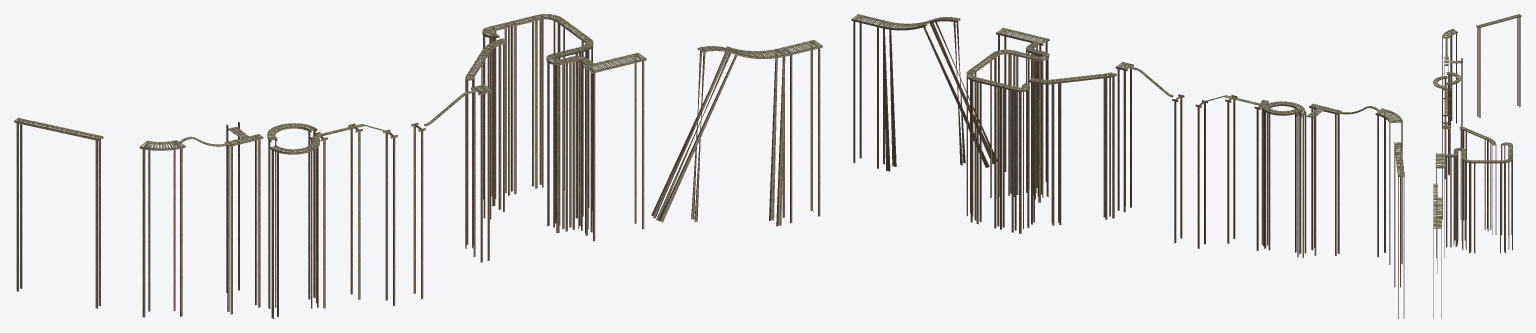
The picture shows the model from 3 angles, left to right: view 1: azimuth 30°, elevation 25°; view 2: azimuth 150°, elevation 25°; view 3: azimuth 270°, elevation 25°; orthographic projection. The views are drawn at different scales.
Parts seen in each view (by area): view 1: Ramp.001, Ramp.004, Ramp.034, Ramp.029, Ramp.037, Ramp.013, Ramp.031, Ramp.005, Ramp.025, Ramp.007, Ramp.019, Ramp.032 (+14 smaller); view 2: Ramp.001, Ramp.013, Ramp.014, Ramp.025, Ramp.032, Ramp.028, Ramp.005, Ramp.020, Ramp.031, Ramp.037, Ramp.012, Ramp.029 (+14 smaller); view 3: Ramp.034, Ramp.019, Ramp.020, Ramp.010, Ramp.008, Ramp.029, Ramp.012, Ramp.006, Ramp.015, Ramp.033, Ramp.011, Ramp.032 (+10 smaller).
Part boxes in pixels (x1,y1,x2,y2): Ramp.001: (651,46,787,226); Ramp.004: (583,52,646,241); Ramp.034: (14,117,103,308); Ramp.029: (139,140,185,317); Ramp.037: (224,134,263,314); Ramp.013: (509,15,540,193); Ramp.031: (267,123,317,308); Ramp.005: (780,40,822,223); Ramp.025: (383,122,425,305); Ramp.007: (560,56,577,231); Ramp.019: (482,38,506,219); Ramp.032: (270,135,320,318); Ramp.001: (880,19,994,171); Ramp.013: (974,77,1000,228); Ramp.014: (998,83,1018,232); Ramp.025: (1172,94,1207,248); Ramp.032: (1263,101,1305,257); Ramp.028: (1225,95,1264,250); Ramp.005: (851,14,886,168); Ramp.020: (1055,73,1109,224); Ramp.031: (1260,99,1302,253); Ramp.037: (1309,103,1341,255); Ramp.012: (966,70,977,222); Ramp.029: (1375,108,1402,264); Ramp.034: (1476,14,1521,117); Ramp.019: (1486,138,1496,235); Ramp.020: (1462,127,1488,229); Ramp.010: (1462,158,1472,253); Ramp.008: (1454,147,1466,240); Ramp.029: (1442,29,1457,128); Ramp.012: (1502,157,1512,253); Ramp.006: (1453,154,1457,246); Ramp.015: (1500,142,1512,235); Ramp.033: (1444,154,1453,247); Ramp.011: (1472,160,1502,253); Ramp.032: (1433,76,1447,179).
Size of the model in its own units: 10439 by 3026 by 2054.
